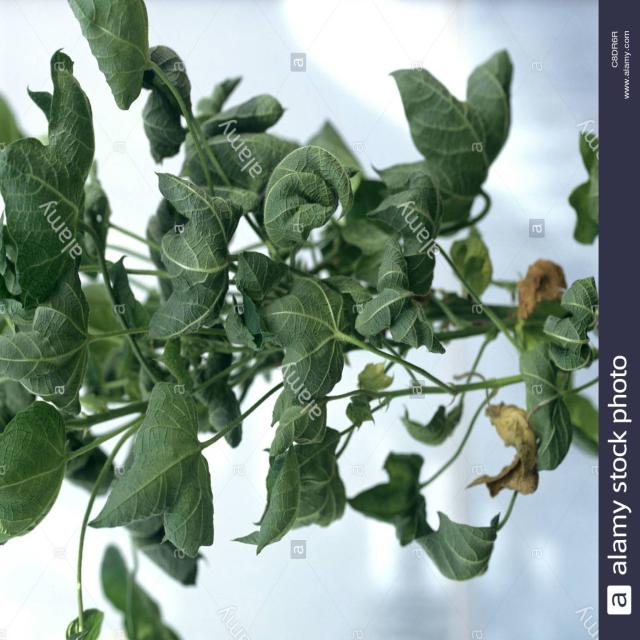Leaf Curl Virus: (14, 97, 602, 505)
